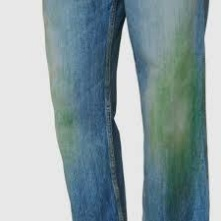earth: (155, 51, 198, 172), (60, 100, 79, 141)
